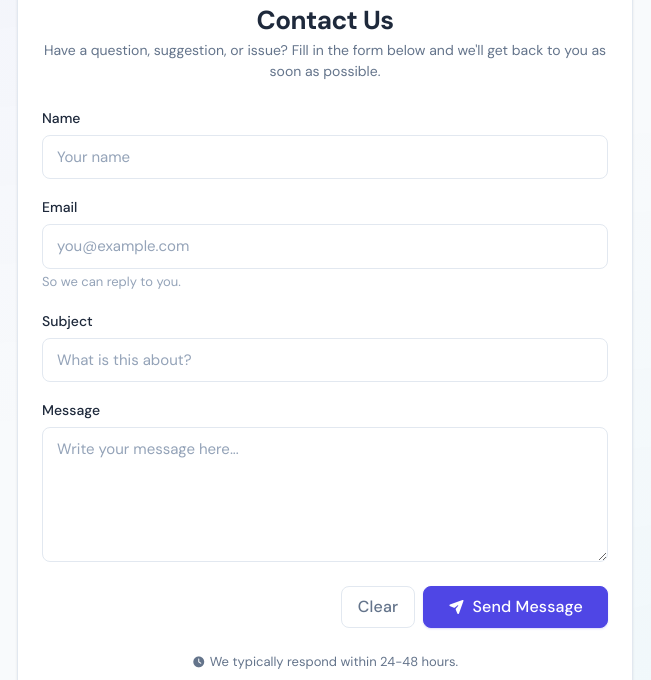
Test case: ContactUs › shows validation errors when submitting empty form
(page scrolled)
Click the button "Send Message" at (516, 607), box [423,586,608,628]
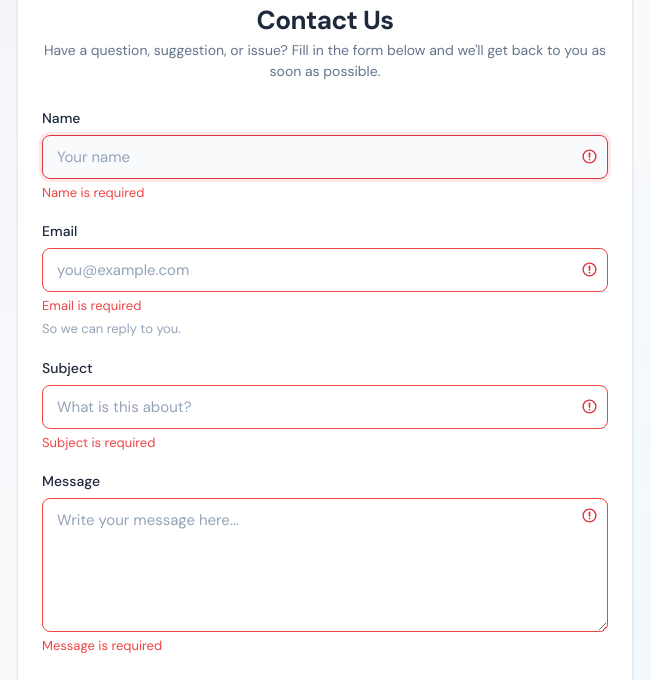
expect the text "Name is required" is shown: met, box [42,184,144,201]
expect the text "Email is required" is shown: met, box [42,297,141,314]
expect the text "Subject is required" is shown: met, box [42,434,155,451]
